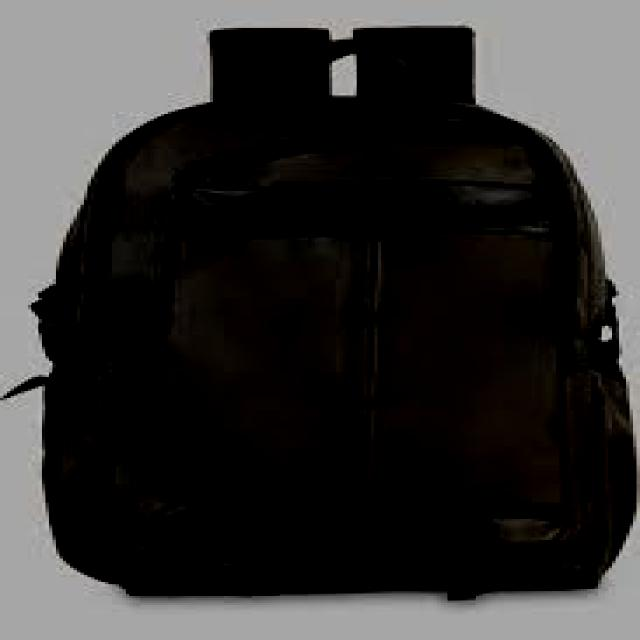backpack: (2, 24, 638, 599)
